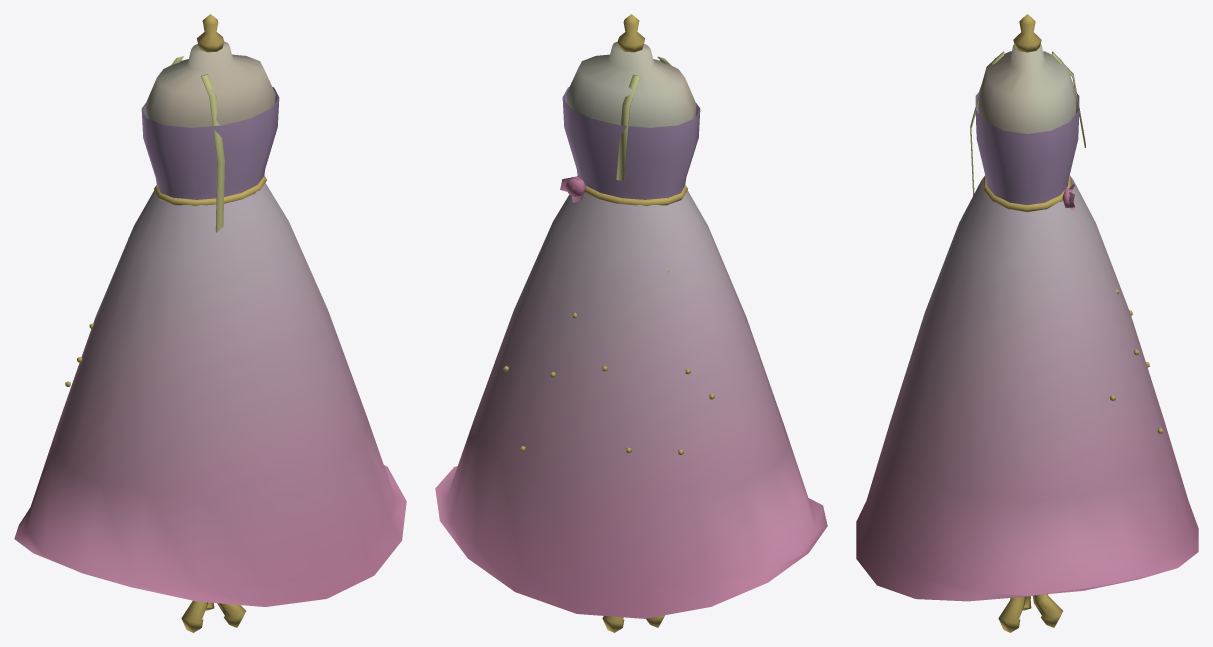
The model's file is seam_dress_form.glb.
The picture shows the model from 3 angles, left to right: view 1: azimuth 30°, elevation 25°; view 2: azimuth 150°, elevation 25°; view 3: azimuth 270°, elevation 25°; orthographic projection.
Visible parts, largest first — view 1: seam_dress_form; view 2: seam_dress_form; view 3: seam_dress_form.
Boxes of the visible parts, x1=… form: seam_dress_form: x1=14, y1=14, x2=406, y2=632; seam_dress_form: x1=435, y1=14, x2=827, y2=632; seam_dress_form: x1=856, y1=14, x2=1198, y2=632.
Size of what is drawn, in the model's own units: 1 by 1.64 by 0.837.
